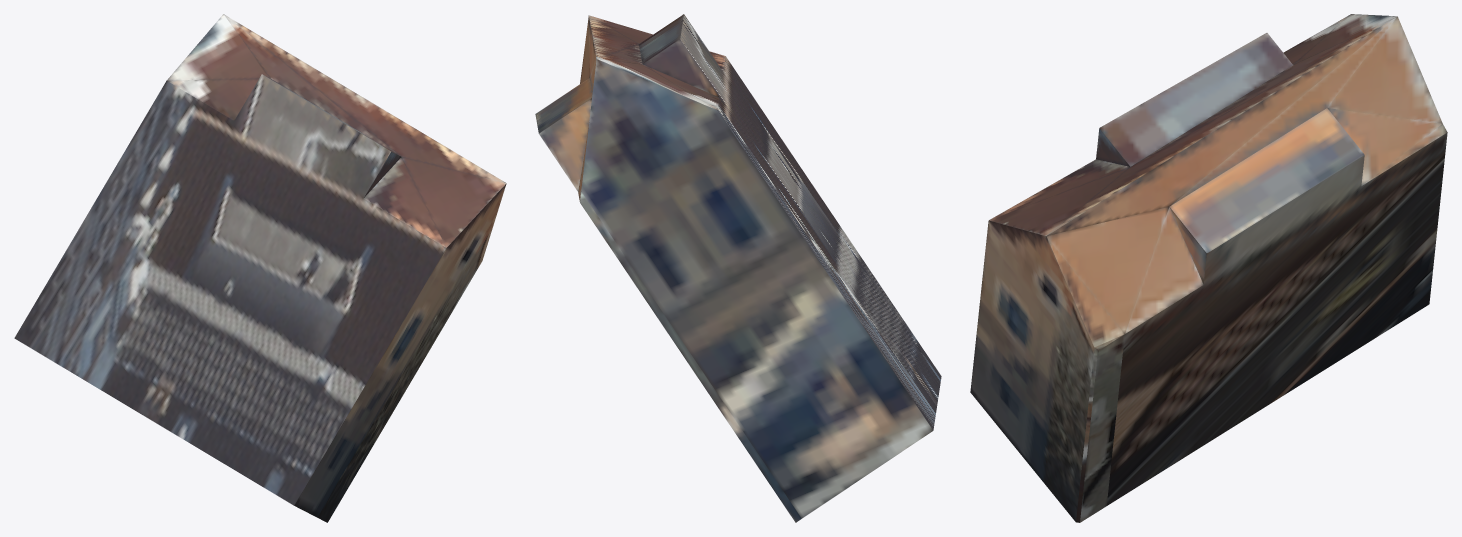
3 renders of one model, left to right at view 1: azimuth 30°, elevation 25°; view 2: azimuth 150°, elevation 25°; view 3: azimuth 270°, elevation 25°, orthographic. The views are drawn at different scales.
Parts seen in each view (by area): view 1: BAG_0599100010033192 (×4); view 2: BAG_0599100010033192 (×5); view 3: BAG_0599100010033192 (×6).
Boxes of the visible parts, <box> form: BAG_0599100010033192 (×4): <box>14,14,506,522</box>; BAG_0599100010033192 (×5): <box>535,14,941,522</box>; BAG_0599100010033192 (×6): <box>970,14,1447,522</box>.
Bounding box in the file's own units: 13.99 × 14.48 × 12.03.
Materials: 1 (1 with a texture image).
